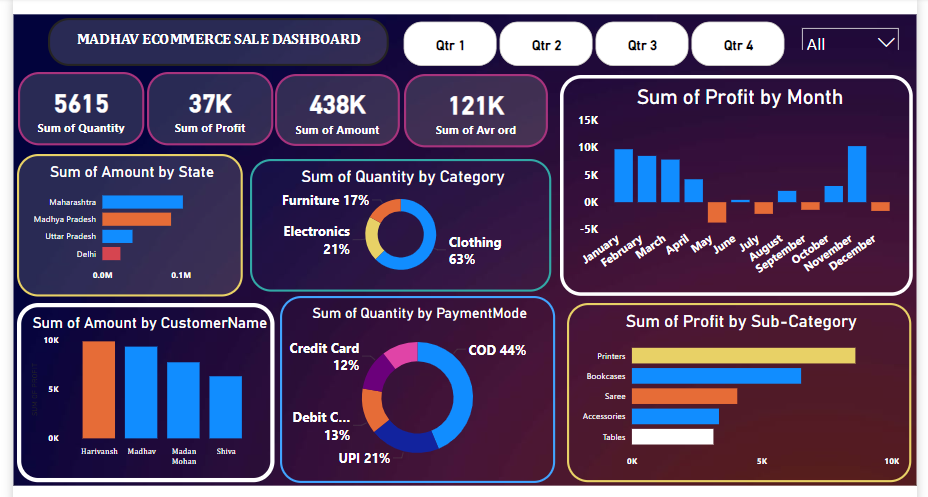

The page's visual inventory and layout, read from the dashboard file:
{"tool":"powerbi","page":{"name":"Page 1","canvas":[1280,720],"ordinal":0},"visuals":[{"type":"textbox","box":[50.1,28.6,482.7,67.9],"z":0},{"type":"columnChart","fields":{"Category":["Orders.Order Date.Variation.Date Hierarchy.Month"],"Y":["Details.Profit"]},"box":[775.5,109.8,499.9,313],"z":1000},{"type":"barChart","fields":{"Category":["Details.Sub-Category"],"Y":["Details.Profit"]},"box":[784.8,432.6,488,253.9],"z":2000},{"type":"donutChart","fields":{"Category":["Details.Category"],"Y":["Details.Quantity"]},"box":[336.1,228.8,427.3,187.7],"z":3000},{"type":"donutChart","fields":{"Y":["Details.Quantity"],"Category":["Details.PaymentMode"]},"box":[379,421.9,389.7,264.6],"z":4000},{"type":"card","fields":{"Values":["Details.Amount"]},"box":[371.8,107.3,177,101.9],"z":5000},{"type":"card","fields":{"Values":["Details.Profit"]},"box":[189.5,105.5,178.8,103.7],"z":6000},{"type":"card","fields":{"Values":["Details.Quantity"]},"box":[7.2,105.5,178.8,103.7],"z":7000},{"type":"card","fields":{"Values":["Details.Avarge order value"]},"box":[554.2,107.3,203.8,103.7],"z":8000},{"type":"barChart","fields":{"Category":["Orders.State"],"Y":["Details.Amount"]},"box":[5.4,221.7,320,202],"z":9000},{"type":"columnChart","fields":{"Category":["Orders.CustomerName"],"Y":["Details.Amount"]},"box":[5.4,432.6,364.7,253.9],"z":10000},{"type":"advancedSlicerVisual","fields":{"Values":["Orders.Order Date.Variation.Date Hierarchy.Quarter"]},"box":[548.8,28.6,552.4,73.3],"z":11000},{"type":"slicer","fields":{"Values":["Orders.State"]},"box":[1108.3,32.6,157.3,63.8],"z":12000}]}

Visuals, with their boxes in screenshot pixels (x1, y1, x2, y2):
textbox: [45, 15, 386, 63]
columnChart - Orders.Order Date.Variation.Date Hierarchy.Month x Details.Profit: [558, 73, 911, 294]
barChart - Details.Sub-Category x Details.Profit: [564, 301, 909, 480]
donutChart - Details.Category x Details.Quantity: [247, 157, 549, 290]
donutChart - Details.Quantity x Details.PaymentMode: [278, 293, 553, 480]
card - Details.Amount: [273, 71, 398, 143]
card - Details.Profit: [144, 70, 270, 143]
card - Details.Quantity: [15, 70, 141, 143]
card - Details.Avarge order value: [401, 71, 546, 144]
barChart - Orders.State x Details.Amount: [13, 152, 240, 295]
columnChart - Orders.CustomerName x Details.Amount: [13, 301, 271, 480]
advancedSlicerVisual - Orders.Order Date.Variation.Date Hierarchy.Quarter: [398, 15, 788, 67]
slicer - Orders.State: [793, 18, 904, 63]
